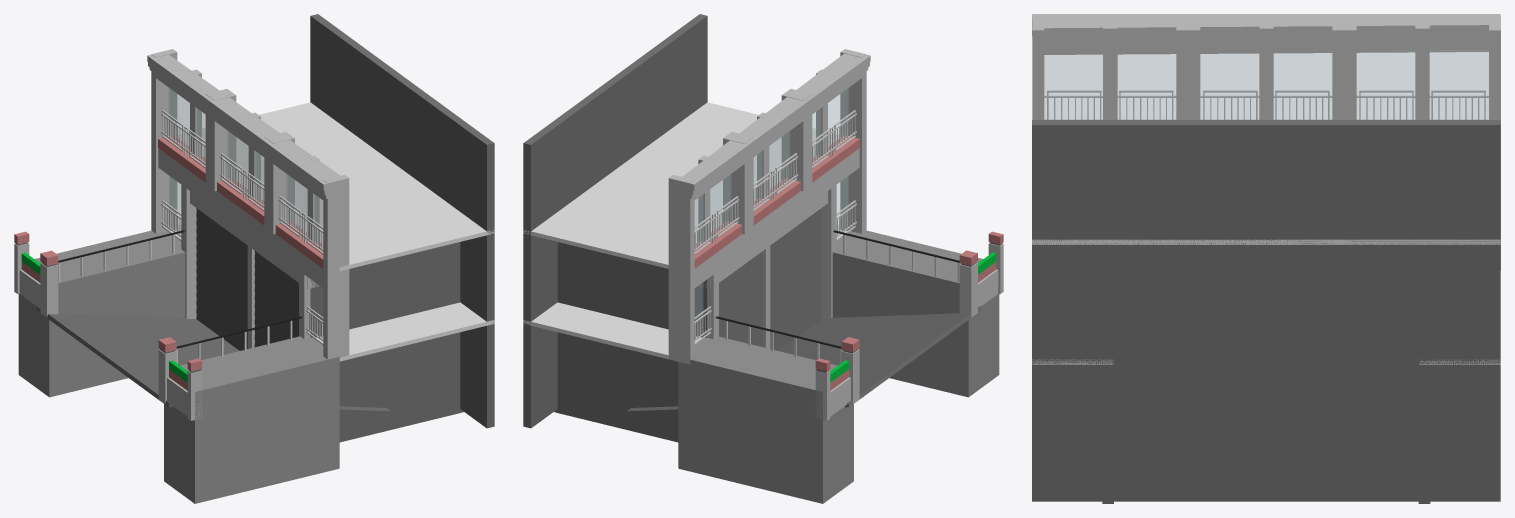
The model's file is Edge_Ground_Recessed_Garage.fbx.
3 views of the same model, side by side, from view 1: azimuth 30°, elevation 25°; view 2: azimuth 150°, elevation 25°; view 3: azimuth 270°, elevation 25° (orthographic). The views are drawn at different scales.
Parts seen in each view (by area): view 1: Inside_Wall, Floor_Outside, Walls, Floor_Inside, Road, Railings, GlassWindows, Wall_Accents, RailingTop, RailingPole; view 2: Inside_Wall, Floor_Outside, Walls, Floor_Inside, Road, Railings, GlassWindows, Wall_Accents, RailingTop, RailingPole; view 3: Inside_Wall, Walls, GlassWindows, Railings, Floor_Inside.
Boxes of the visible parts, x1,y1,x2,y2 form: Inside_Wall: [310, 14, 494, 442]; Floor_Outside: [18, 230, 339, 503]; Walls: [14, 49, 349, 420]; Floor_Inside: [171, 102, 494, 361]; Road: [36, 306, 390, 415]; Railings: [161, 110, 323, 344]; GlassWindows: [169, 88, 322, 337]; Wall_Accents: [14, 135, 323, 390]; RailingTop: [58, 230, 302, 348]; RailingPole: [58, 234, 292, 363]; Inside_Wall: [523, 14, 707, 442]; Floor_Outside: [678, 230, 999, 503]; Walls: [668, 49, 1003, 420]; Floor_Inside: [523, 102, 846, 359]; Road: [627, 306, 981, 415]; Railings: [694, 110, 856, 344]; GlassWindows: [695, 88, 848, 337]; Wall_Accents: [694, 135, 1003, 390]; RailingTop: [715, 230, 959, 348]; RailingPole: [725, 234, 959, 363]; Inside_Wall: [1032, 120, 1500, 503]; Walls: [1032, 14, 1500, 270]; GlassWindows: [1044, 50, 1488, 119]; Railings: [1044, 90, 1488, 119]; Floor_Inside: [1032, 239, 1500, 364].
Size of the model in its own units: 39.75 by 36.05 by 40.01.
